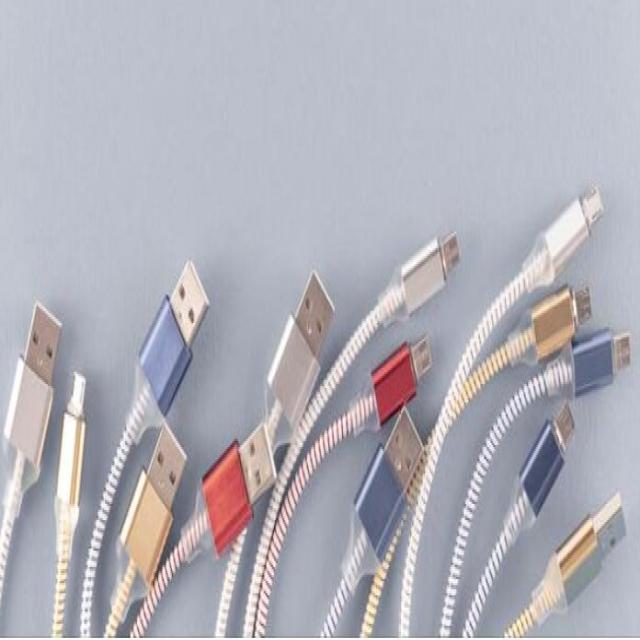electronic: (84, 248, 217, 640), (254, 195, 350, 498), (520, 412, 640, 640), (346, 382, 445, 640), (0, 280, 63, 640), (190, 381, 280, 600), (371, 163, 468, 324), (126, 396, 189, 640), (544, 292, 638, 438), (501, 366, 577, 534), (518, 140, 604, 262), (357, 308, 440, 428), (59, 339, 87, 640), (511, 256, 599, 346)
